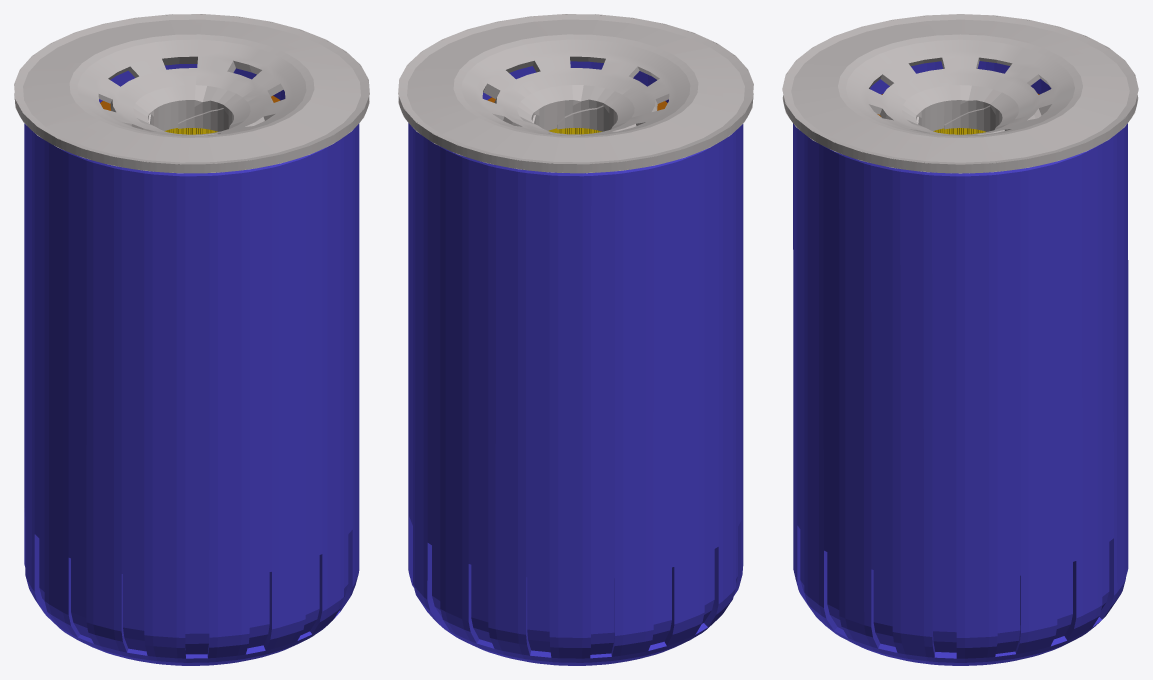
File: Filter(combined).fbx
The picture shows the model from 3 angles, left to right: view 1: azimuth 30°, elevation 25°; view 2: azimuth 150°, elevation 25°; view 3: azimuth 270°, elevation 25°; orthographic projection.
Parts seen in each view (by area): view 1: Filter_case; view 2: Filter_case; view 3: Filter_case.
Boxes of the visible parts, left/top/right/bottom form: Filter_case: left=14, top=14, right=369, bottom=665; Filter_case: left=398, top=14, right=753, bottom=665; Filter_case: left=782, top=14, right=1138, bottom=665.
Bounding box in the file's own units: 0.1986 × 0.3285 × 0.1986.
